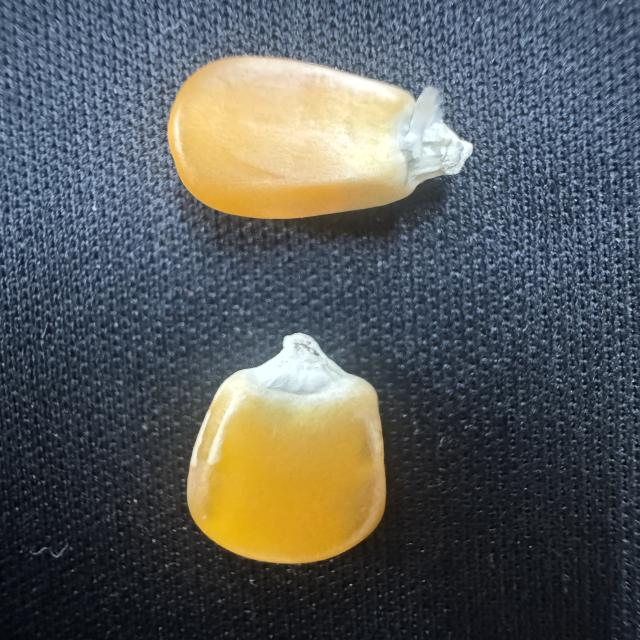Good-Seed: (158, 50, 479, 226), (179, 330, 393, 568)
